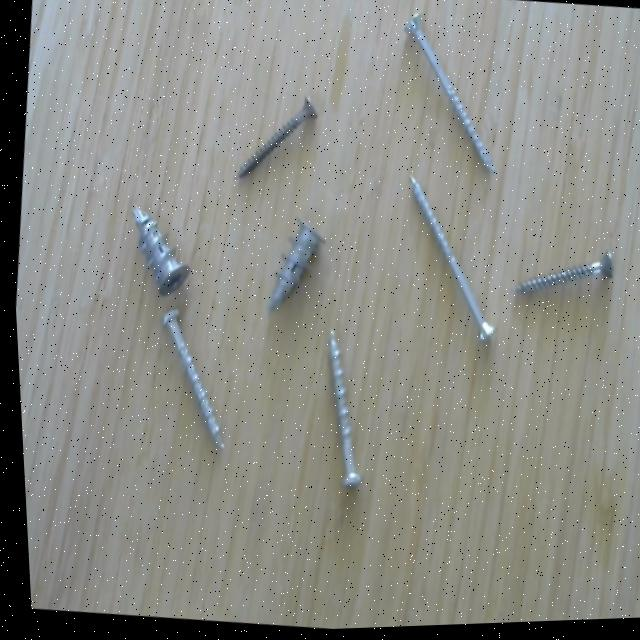Black screw: (225, 92, 326, 193), (505, 248, 616, 308)
Long screw: (400, 167, 502, 357), (398, 8, 503, 189)
Medium screw: (151, 301, 228, 461), (319, 322, 361, 500)
Short screw: (121, 192, 193, 307), (257, 212, 330, 324)
